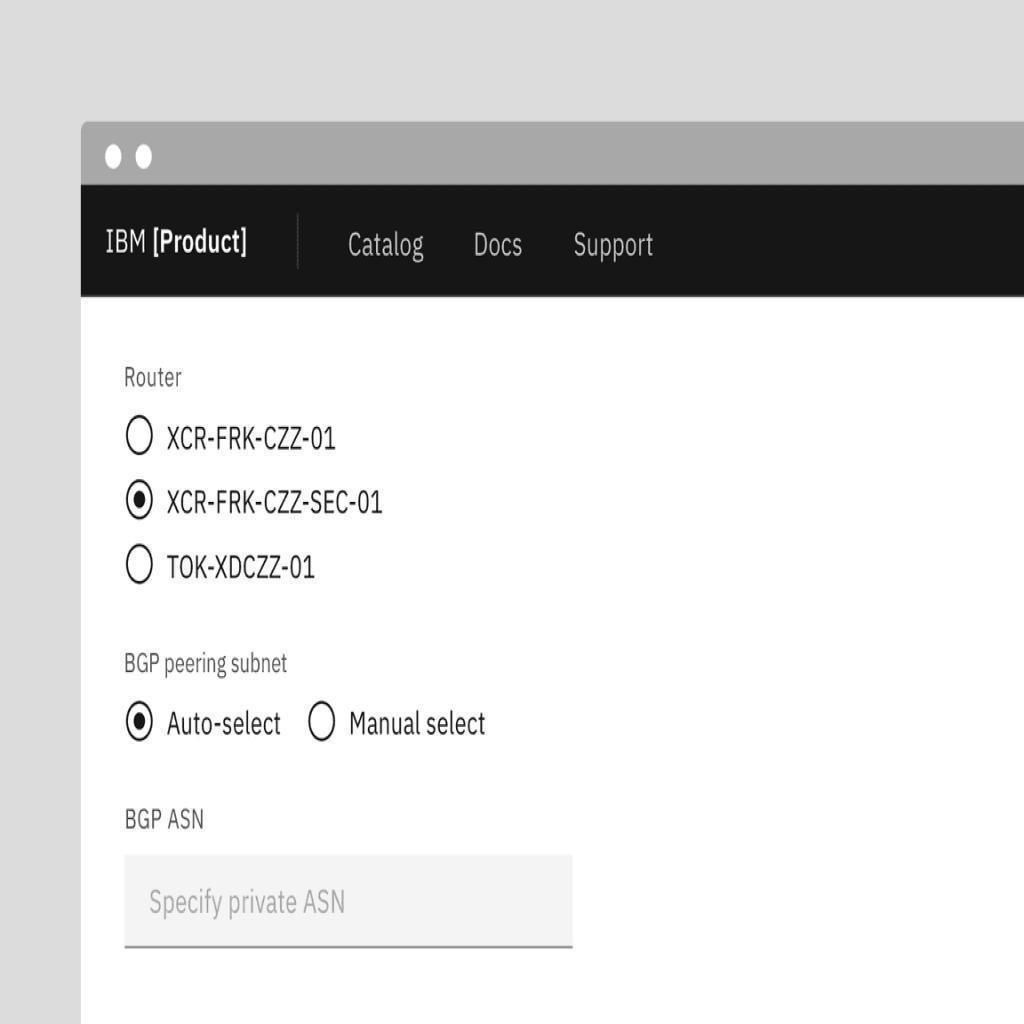input: (123, 850, 576, 948)
radio: (114, 687, 160, 755), (305, 691, 339, 753), (122, 535, 159, 587), (120, 411, 156, 462), (120, 471, 156, 518)
